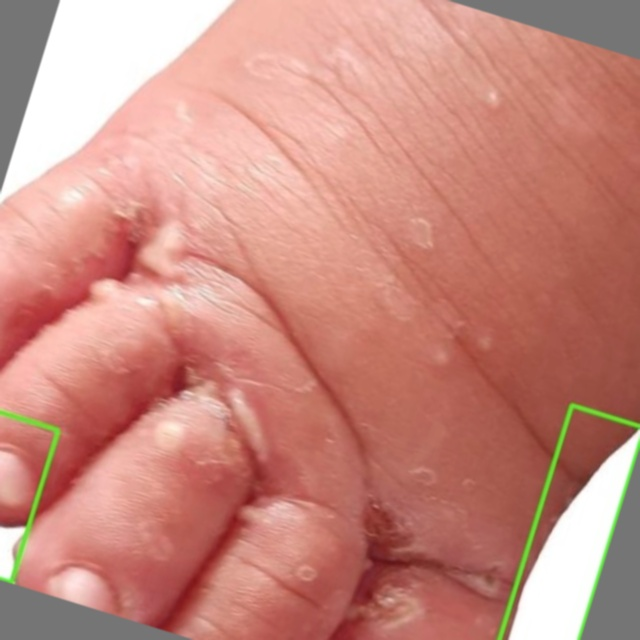Scabies: (499, 405, 639, 639)
